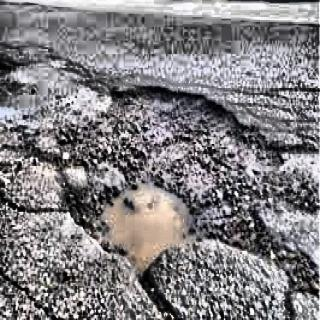pothole: (54, 81, 296, 281)
